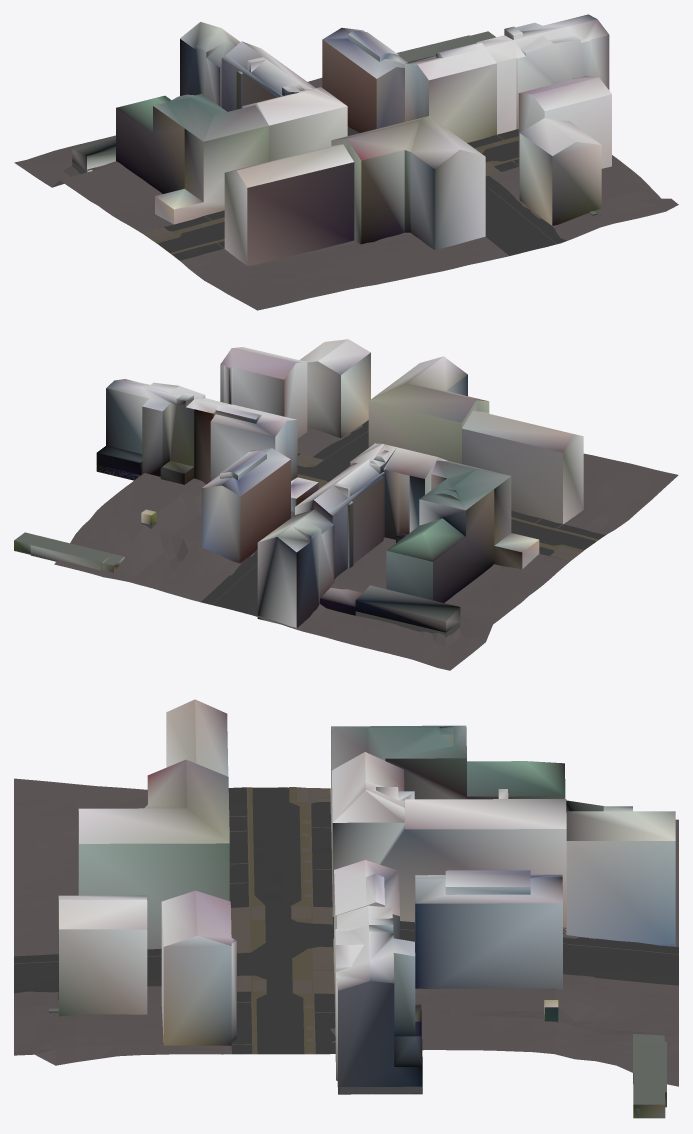
The picture shows the model from 3 angles, top to bottom: view 1: azimuth 30°, elevation 25°; view 2: azimuth 150°, elevation 25°; view 3: azimuth 270°, elevation 25°; orthographic projection. The views are drawn at different scales.
Visible parts, largest first — view 1: c_p01_m17; view 2: c_p01_m17; view 3: c_p01_m17.
Part boxes in pixels (<box>): c_p01_m17: <box>14,14,678,310</box>; c_p01_m17: <box>14,339,678,670</box>; c_p01_m17: <box>14,699,678,1118</box>.
Size of the model in its own units: 143 by 34.51 by 128.
